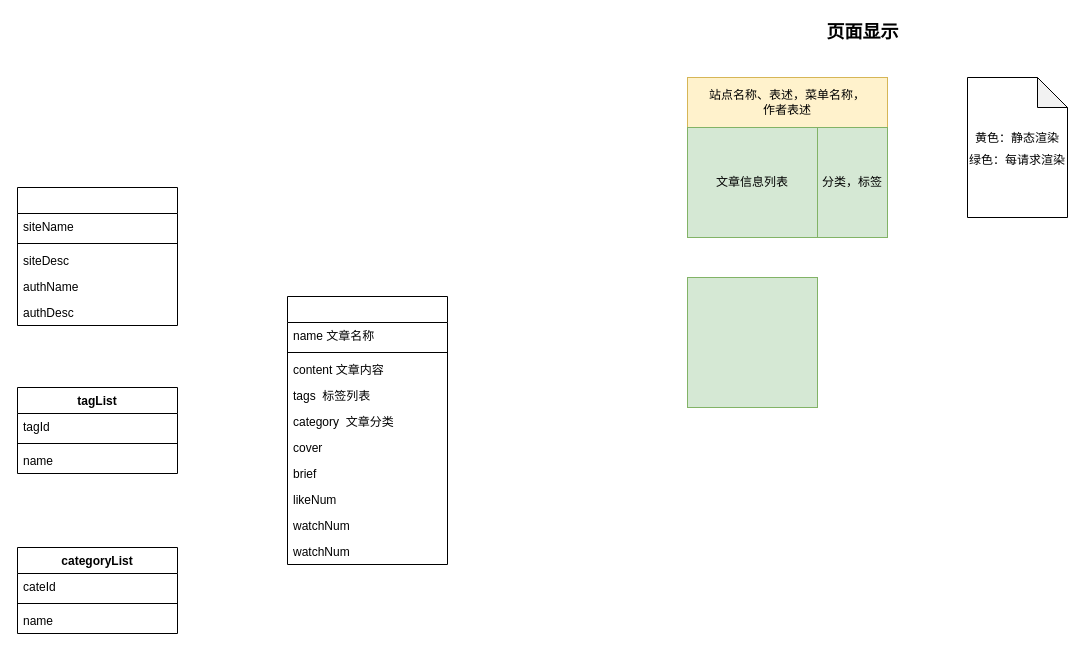
Some shapes in this 1085 by 653 pixel diagram are drawn without their labels. Each missing label, with the box of its shape:
articleList: (286, 296, 448, 564)
siteMsg: (16, 186, 178, 326)
文章详情: (686, 276, 818, 408)
